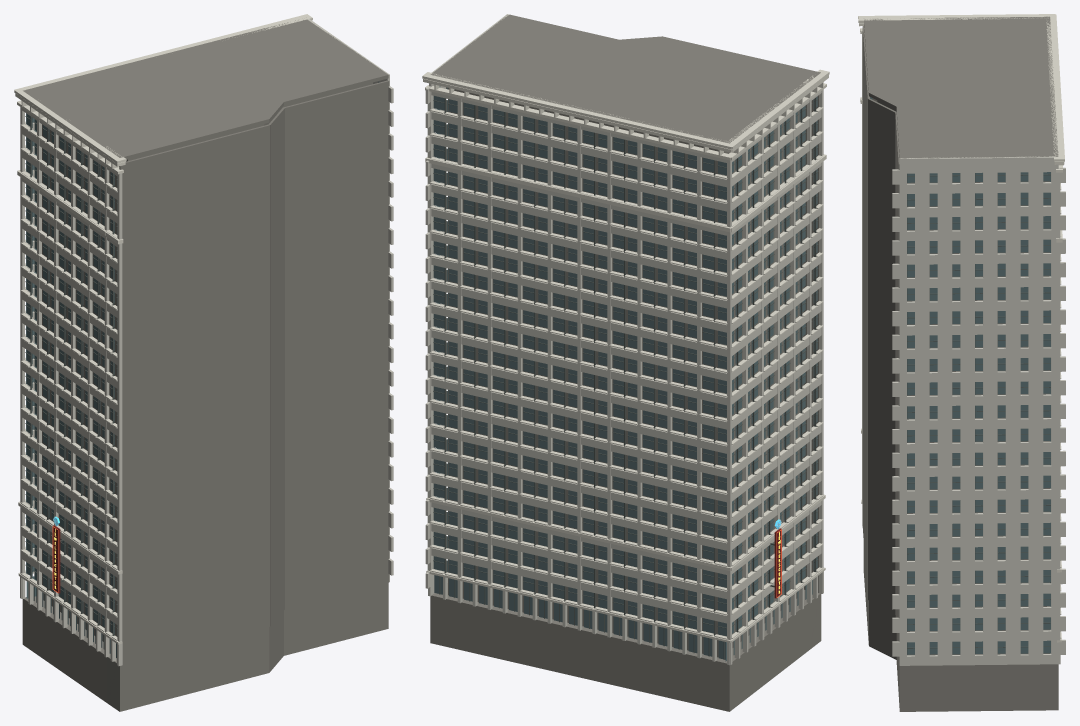
Rendered from mallers.glb.
3 views of the same model, side by side, from view 1: azimuth 30°, elevation 25°; view 2: azimuth 150°, elevation 25°; view 3: azimuth 270°, elevation 25° (orthographic). The views are drawn at different scales.
Visible parts, largest first — view 1: Opaque interior and unsurveyed rear, White enamel terra cotta, Projecting pale mouldings, Separate recessed opaque windows, Dark window sash; view 2: White enamel terra cotta, Opaque interior and unsurveyed rear, Separate recessed opaque windows, Projecting pale mouldings, Dark window sash; view 3: White enamel terra cotta, Opaque interior and unsurveyed rear, Separate recessed opaque windows, Projecting pale mouldings, Dark window sash.
Boxes of the visible parts, x1,y1,x2,y2 form: Opaque interior and unsurveyed rear: (22,19,389,711); White enamel terra cotta: (20,17,393,666); Projecting pale mouldings: (14,14,312,644); Separate recessed opaque windows: (26,82,379,657); Dark window sash: (25,81,379,635); White enamel terra cotta: (425,14,823,665); Opaque interior and unsurveyed rear: (430,14,821,711); Separate recessed opaque windows: (433,86,817,661); Projecting pale mouldings: (422,69,829,642); Dark window sash: (433,87,818,659); White enamel terra cotta: (862,34,1065,665); Opaque interior and unsurveyed rear: (862,16,1058,711); Separate recessed opaque windows: (870,97,1050,654); Projecting pale mouldings: (858,14,1064,642); Dark window sash: (907,173,1050,654).
Size of the model in its own units: 53.96 by 95 by 32.32.
